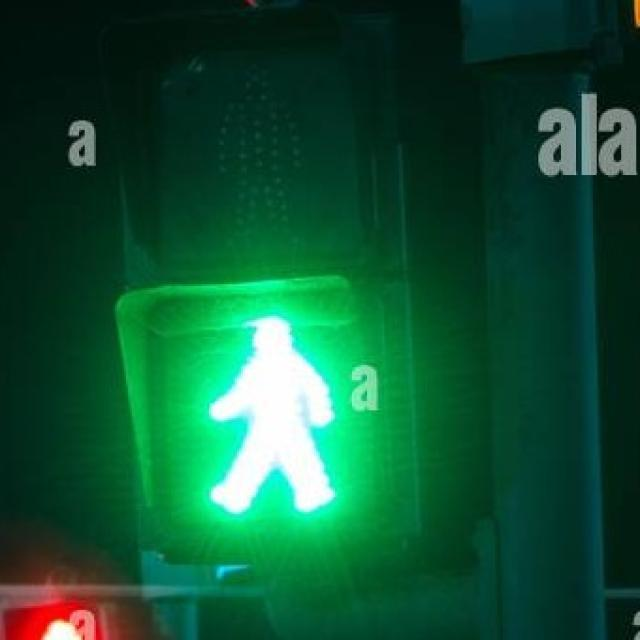geen-crossing: (192, 310, 344, 528)
